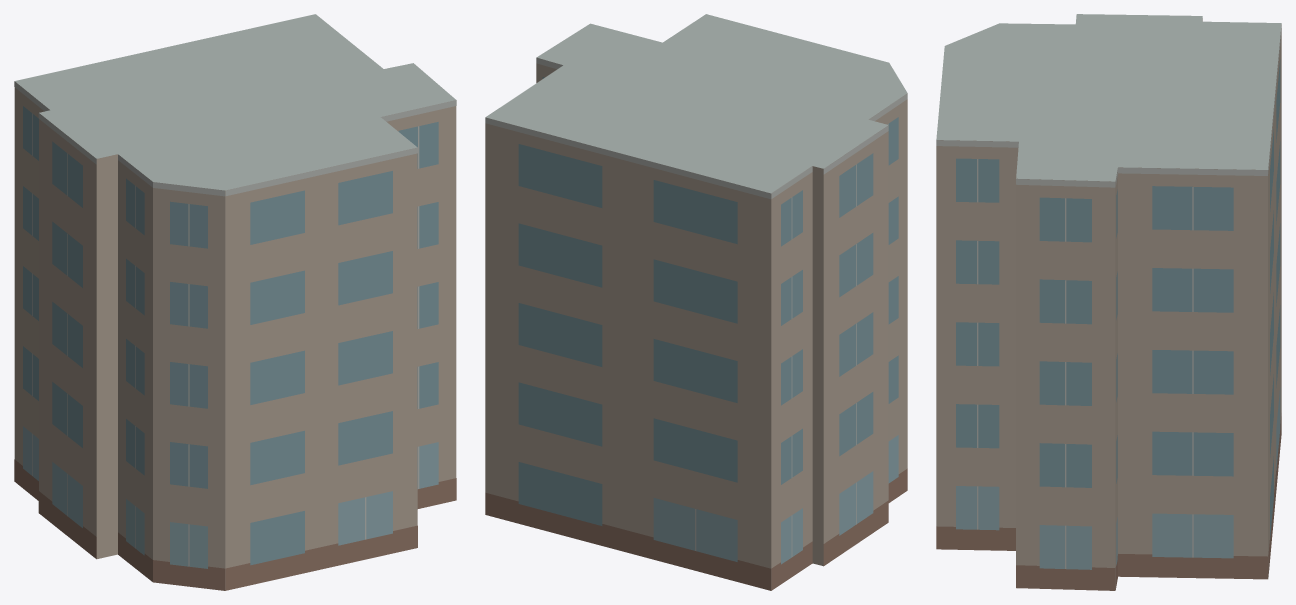
File: survey-upis-32940922.glb
3 views of the same model, side by side, from view 1: azimuth 30°, elevation 25°; view 2: azimuth 150°, elevation 25°; view 3: azimuth 270°, elevation 25° (orthographic). The views are drawn at different scales.
Visible parts, largest first — view 1: survey-upis-32940922.tmp; view 2: survey-upis-32940922.tmp; view 3: survey-upis-32940922.tmp.
Part boxes in pixels (left/top/right/bottom): survey-upis-32940922.tmp: left=14, top=14, right=456, bottom=590; survey-upis-32940922.tmp: left=485, top=14, right=907, bottom=590; survey-upis-32940922.tmp: left=936, top=14, right=1281, bottom=590.
Size of the model in its own units: 14.5 by 16.5 by 12.63.
